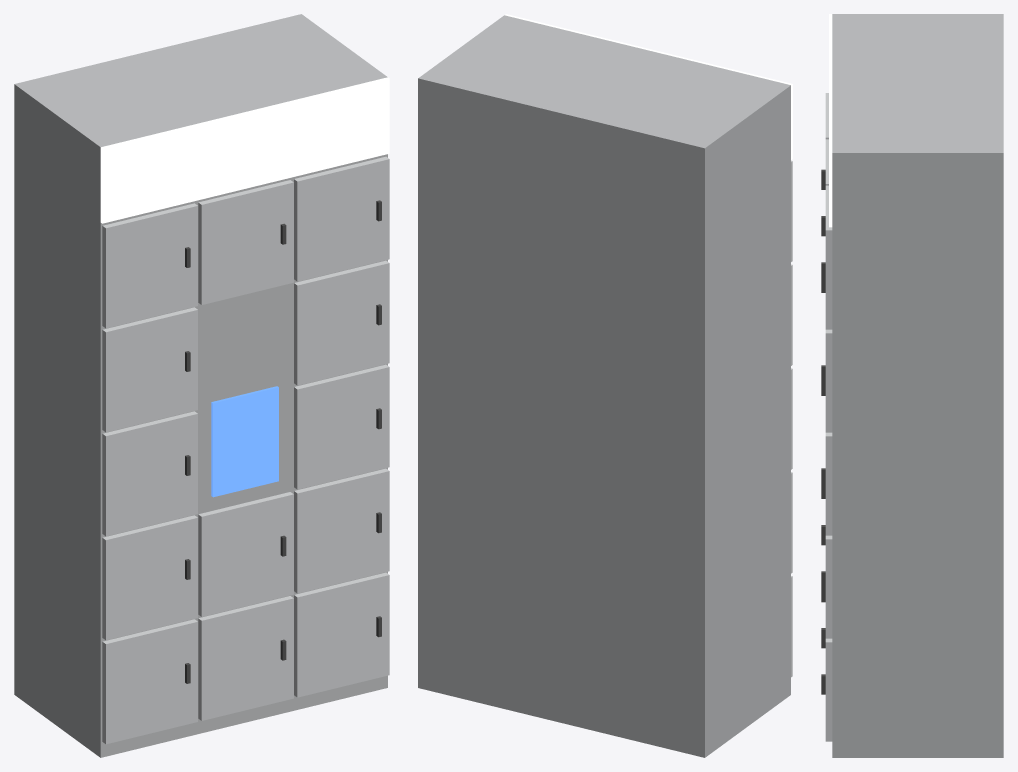
The model's file is parcel_locker.glb.
The picture shows the model from 3 angles, left to right: view 1: azimuth 30°, elevation 25°; view 2: azimuth 150°, elevation 25°; view 3: azimuth 270°, elevation 25°; orthographic projection.
Visible parts, largest first — view 1: parcel_locker, locker_01, locker_11, locker_13, locker_03, locker_05, locker_09, locker_10, locker_04, locker_06, locker_07, locker_08 (+2 smaller); view 2: parcel_locker; view 3: parcel_locker, locker_13, locker_03, locker_06, locker_08, locker_10.
Boxes of the visible parts, x1,y1,x2,y2 form: parcel_locker: (14,14,389,757); locker_01: (102,619,197,744); locker_11: (102,203,197,328); locker_13: (294,156,389,281); locker_03: (294,572,389,697); locker_05: (198,492,293,616); locker_09: (102,307,197,432); locker_10: (294,260,389,385); locker_04: (102,515,197,640); locker_06: (294,468,389,593); locker_07: (102,411,197,536); locker_08: (294,364,389,489); parcel_locker: (418,14,792,757); parcel_locker: (829,14,1003,757); locker_13: (821,185,832,329); locker_03: (821,638,832,741); locker_06: (821,535,832,638); locker_08: (821,432,832,535); locker_10: (821,329,832,432).
Size of the model in its own units: 0.96 by 1.95 by 0.532.
